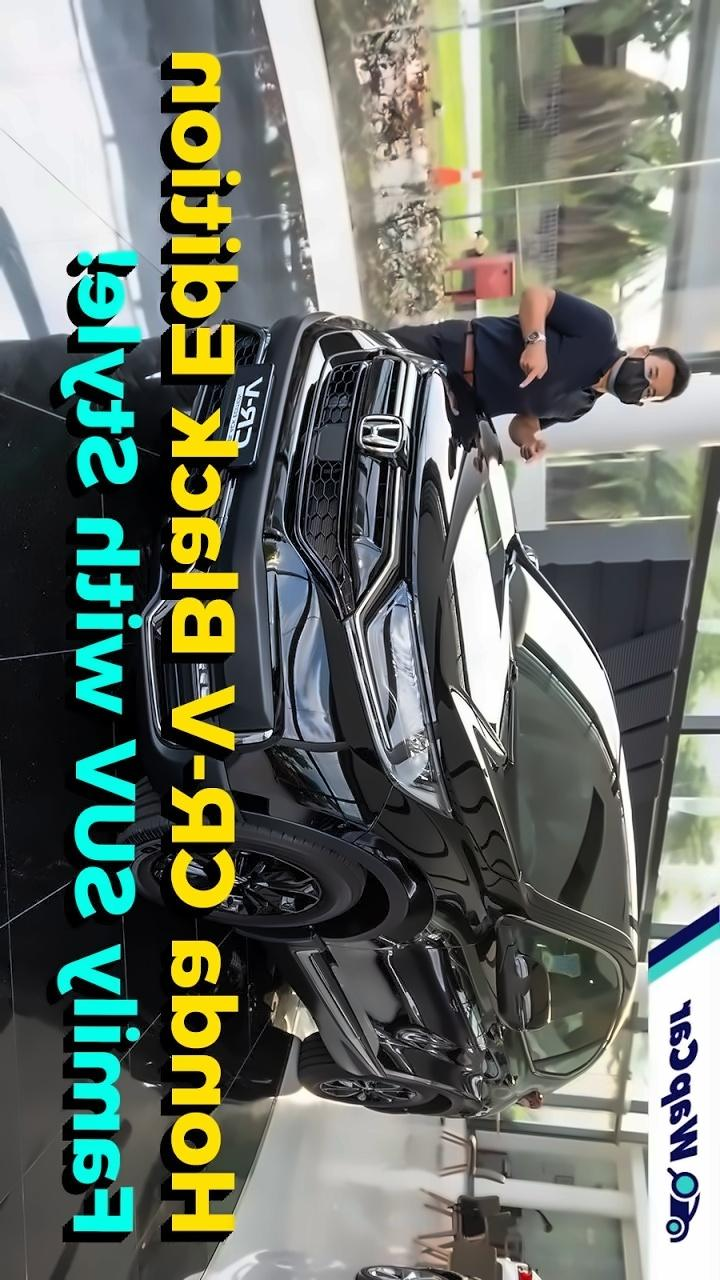Car hood: (408, 362, 513, 869)
Fender - -F-L-: (206, 766, 514, 947)
Front bumper: (148, 304, 346, 826)
Headlight - -L-: (354, 586, 458, 815)
Passenger-s door - -F-L-: (247, 931, 683, 1050)
Side bumper - -L-: (246, 930, 369, 1105)
Side mirror - -L-: (486, 920, 566, 1036)
